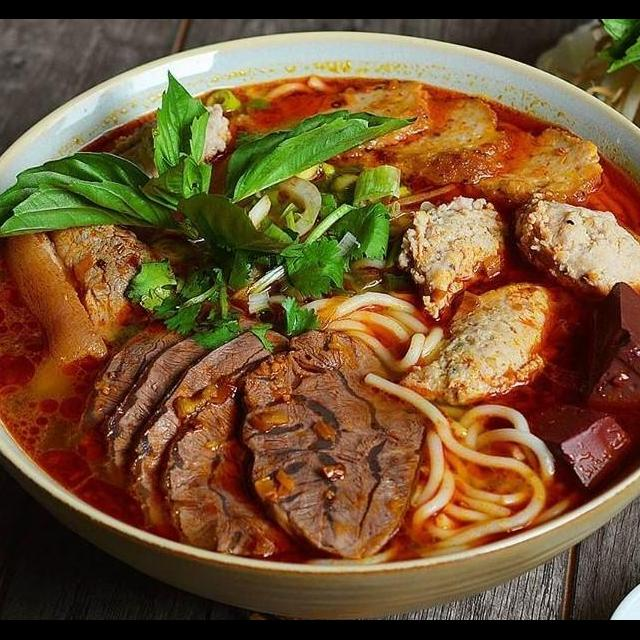bun: (0, 348, 258, 514), (243, 294, 375, 414)
bun bo: (0, 53, 640, 619)
thit bo: (0, 255, 326, 403), (0, 173, 319, 304), (0, 198, 295, 310), (58, 154, 307, 255), (142, 137, 324, 244)
